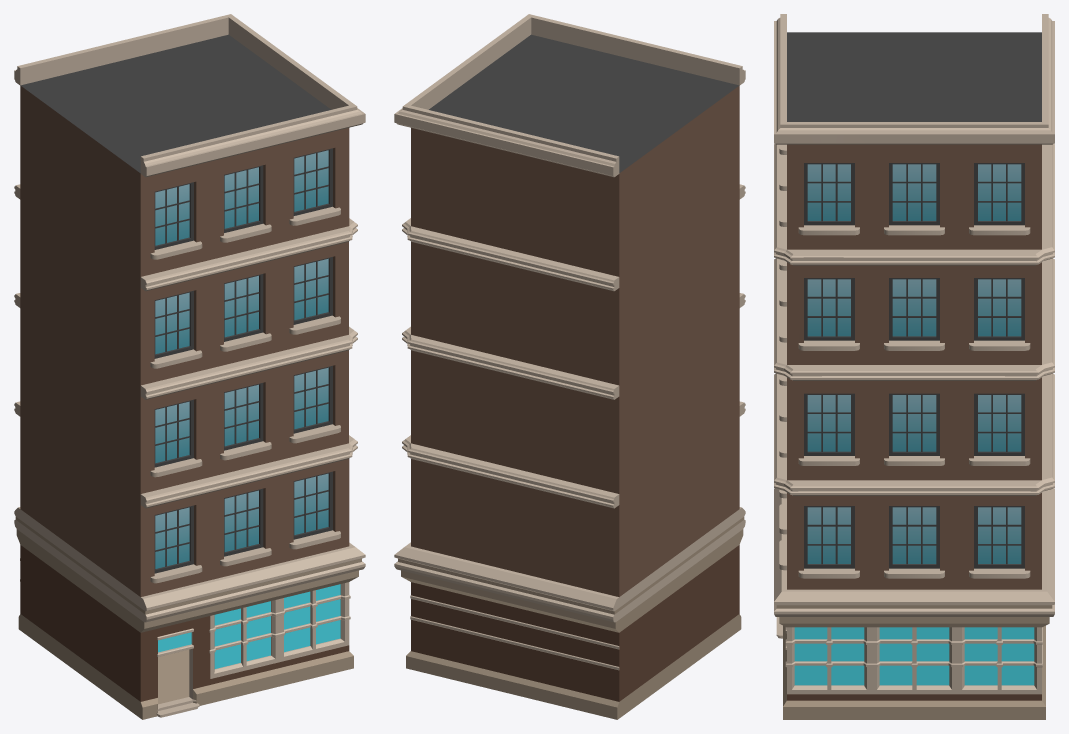
Rendered from SM_Buildings_House_06_V4.fbx.
3 renders of one model, left to right at view 1: azimuth 30°, elevation 25°; view 2: azimuth 150°, elevation 25°; view 3: azimuth 270°, elevation 25°, orthographic. The views are drawn at different scales.
Visible parts, largest first — view 1: SM_Buildings_House_06_V4; view 2: SM_Buildings_House_06_V4; view 3: SM_Buildings_House_06_V4.
Boxes of the visible parts, left/top/right/bottom form: SM_Buildings_House_06_V4: left=14, top=14, right=365, bottom=719; SM_Buildings_House_06_V4: left=394, top=14, right=745, bottom=719; SM_Buildings_House_06_V4: left=774, top=14, right=1054, bottom=719.
Bounding box in the file's own units: 10.5 × 25.78 × 11.
